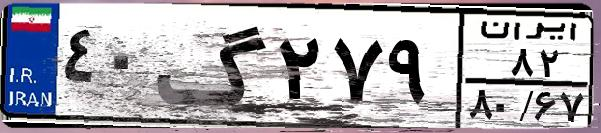0: (110, 28, 156, 98), (495, 70, 520, 125)
2: (270, 28, 330, 110), (537, 27, 568, 80)
4: (57, 26, 110, 100)
6: (535, 70, 560, 125)
7: (330, 28, 385, 110), (560, 70, 590, 125)
8: (508, 27, 537, 80), (470, 70, 495, 125)
9: (385, 28, 445, 110)
گ: (156, 12, 270, 120)
